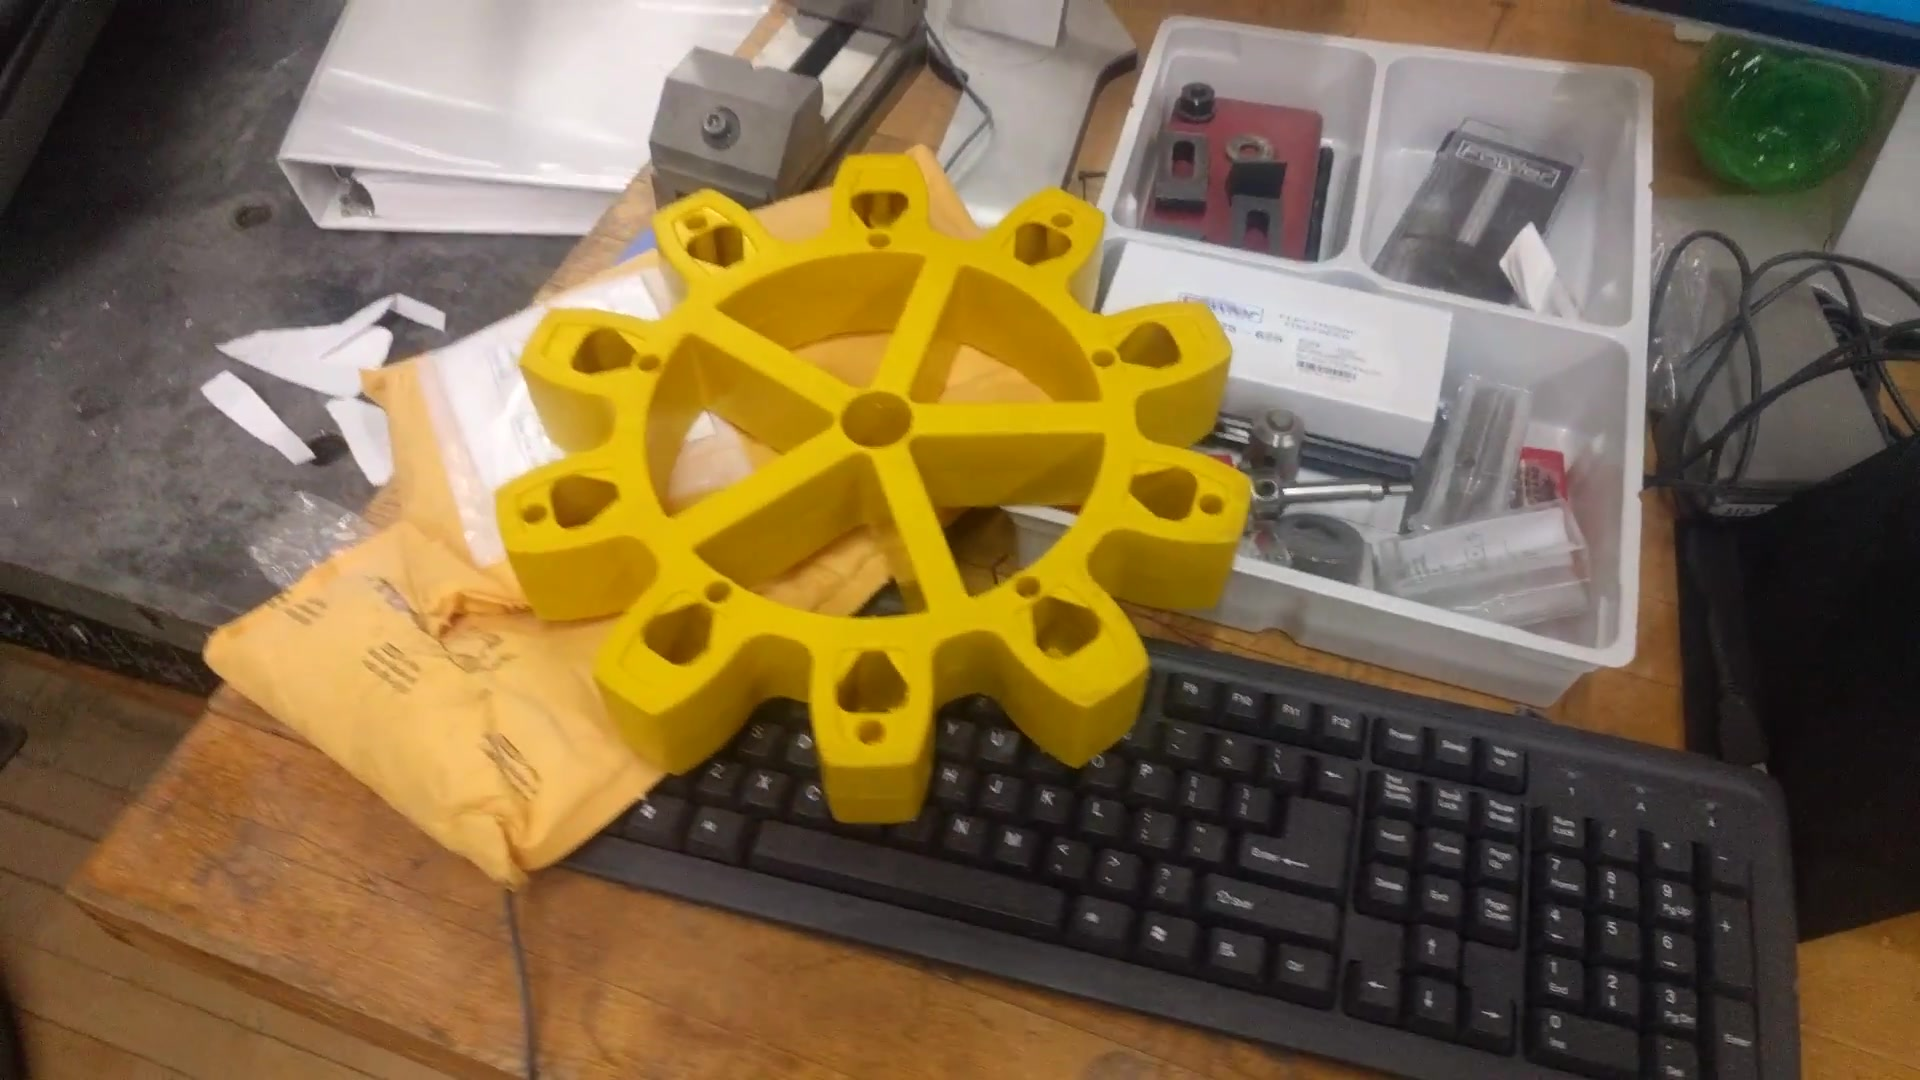gear: (456, 156, 1295, 837)
